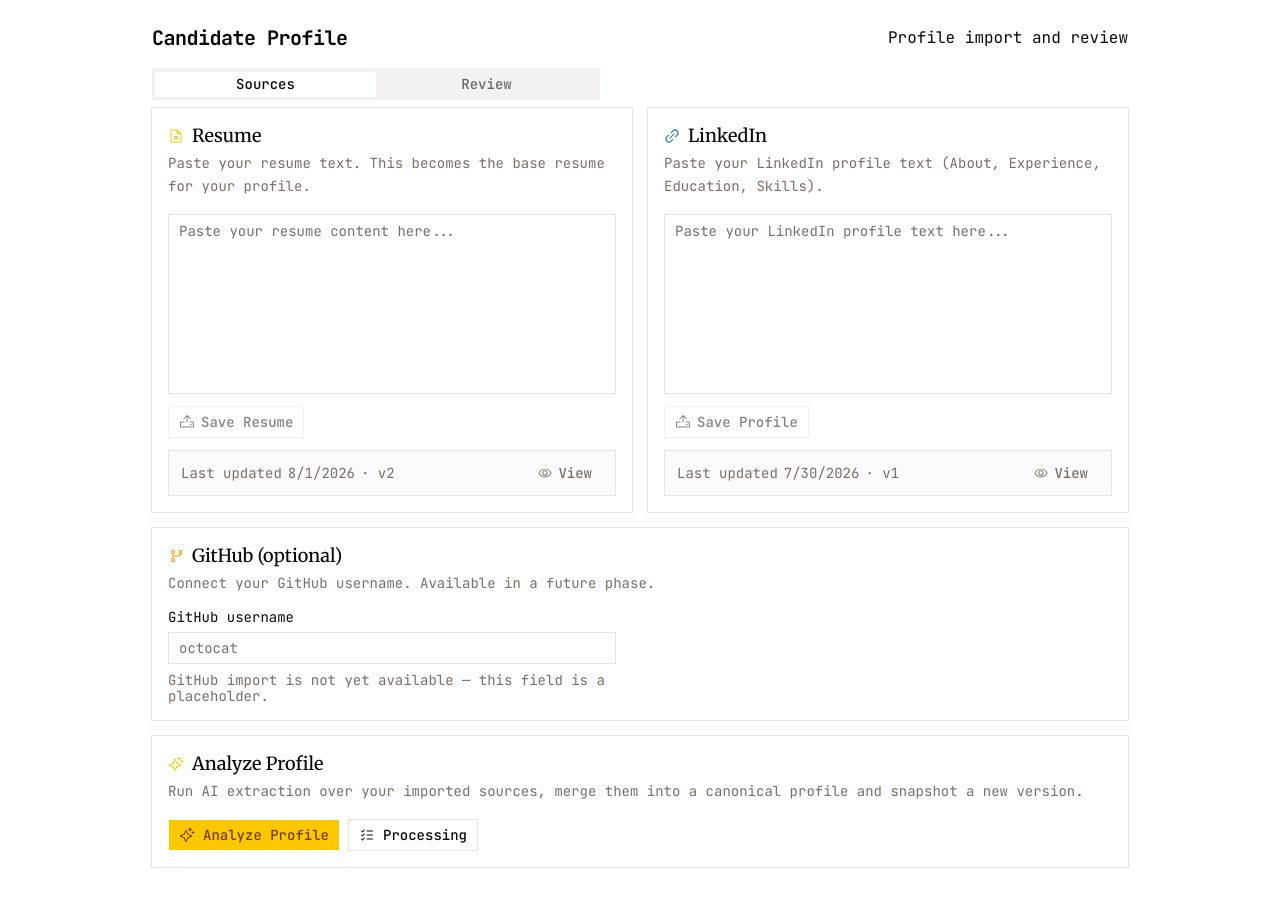
Test case: ProfileImportPage sources › opens the candidate processing drawer from the Analyze card
Click the button "Processing": (413, 835) x1=348 y1=819 x2=478 y2=851
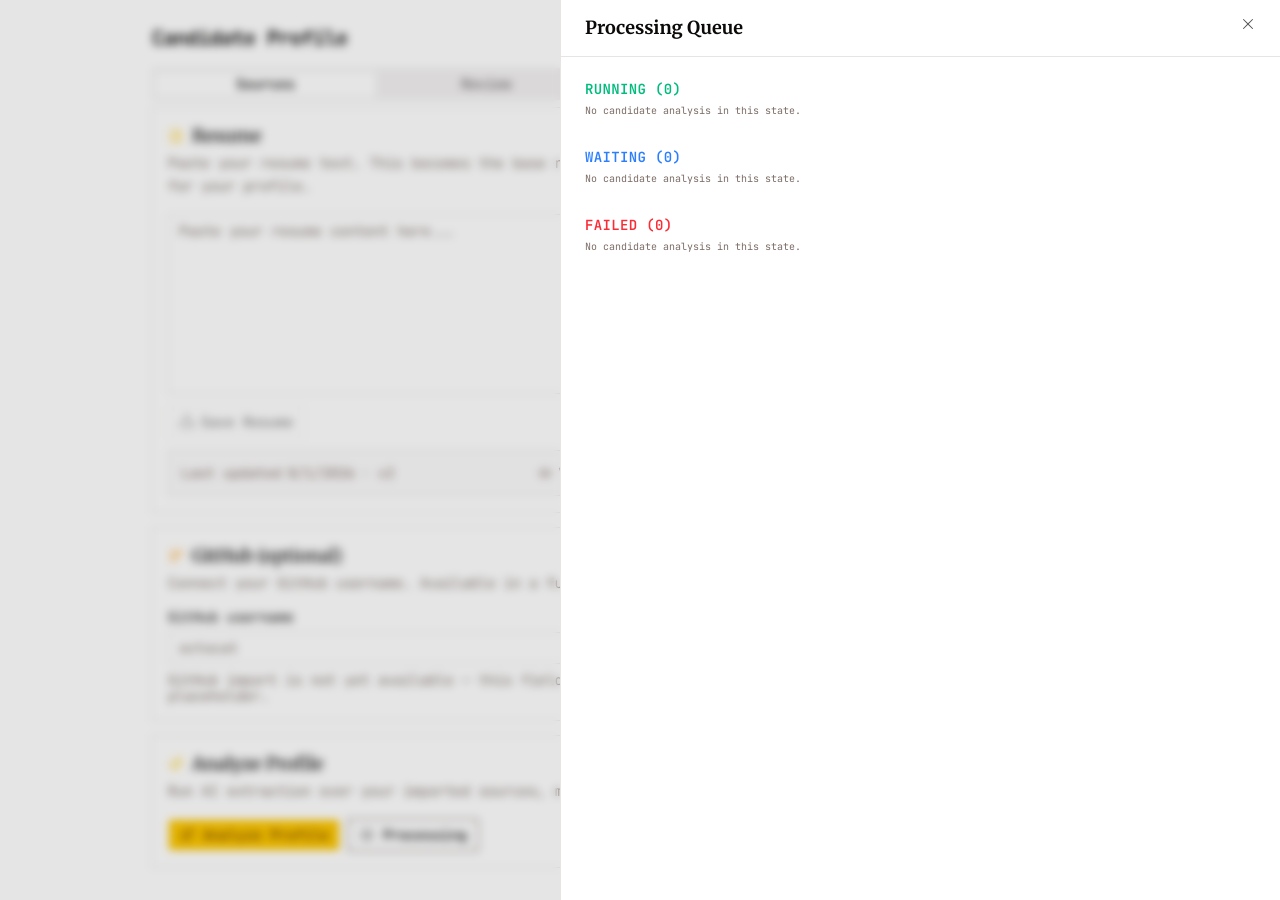
Expected: the heading "Processing Queue" is shown, x1=585 y1=16 x2=743 y2=40
Expected: the text "No candidate analysis in this state." is shown 3 times, x1=585 y1=104 x2=801 y2=117; x1=585 y1=172 x2=801 y2=185; x1=585 y1=240 x2=801 y2=253
